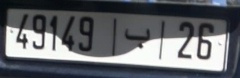1: (44, 10, 65, 54)
2: (177, 18, 195, 62)
4: (58, 13, 79, 51), (15, 12, 30, 49)
6: (196, 21, 216, 59)
9: (75, 14, 100, 52), (32, 12, 48, 48)
b: (124, 24, 153, 50)
